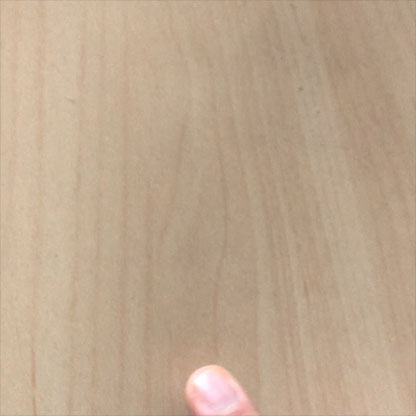fingertip: (175, 360, 259, 415)
